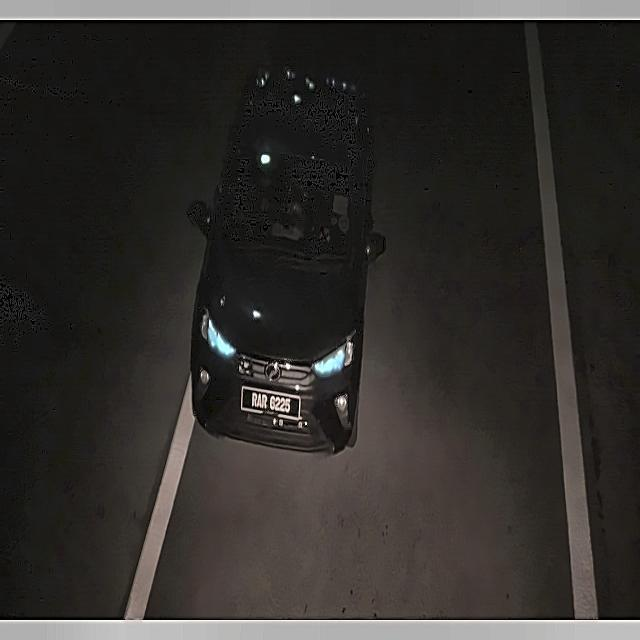car: (242, 386, 298, 423)
